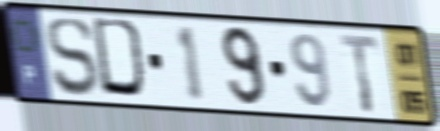1: (175, 23, 204, 105)
9: (220, 23, 268, 111), (288, 31, 332, 111)
D: (89, 15, 152, 104)
S: (44, 15, 100, 99)
T: (336, 31, 382, 116)
